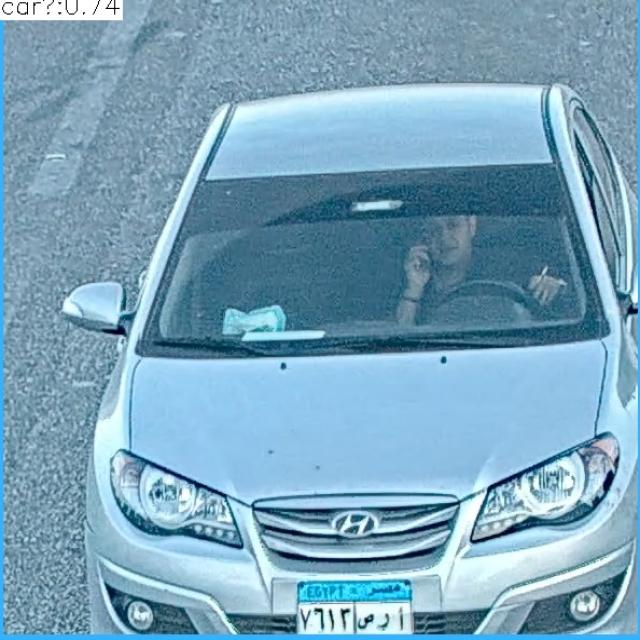windshield: (144, 172, 604, 341)
